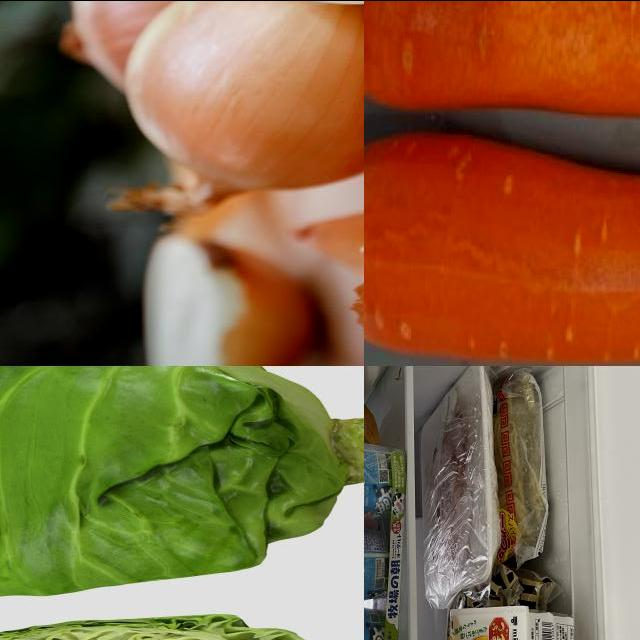cabbage: (1, 366, 365, 600)
carrot: (365, 127, 640, 366), (365, 1, 640, 120)
onion: (125, 1, 365, 194), (143, 231, 320, 366), (75, 1, 236, 105)
